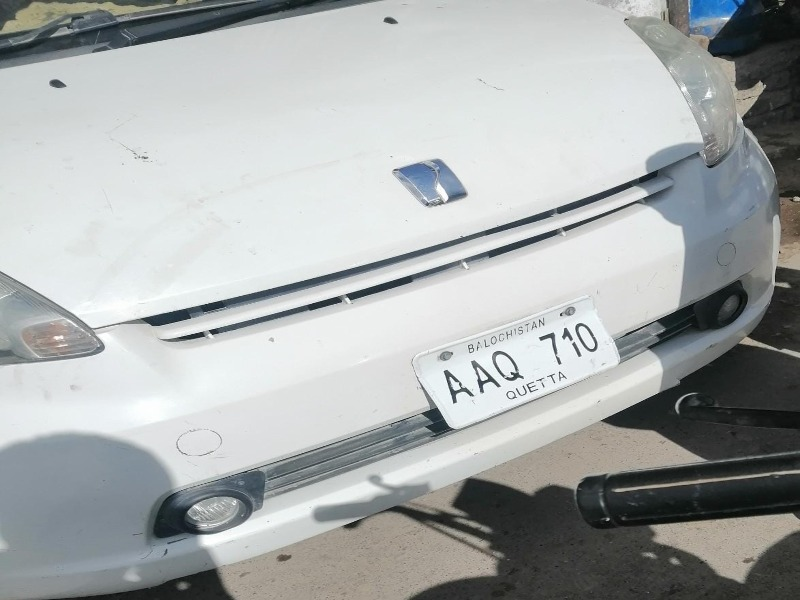License Plate: (412, 297, 622, 434)
